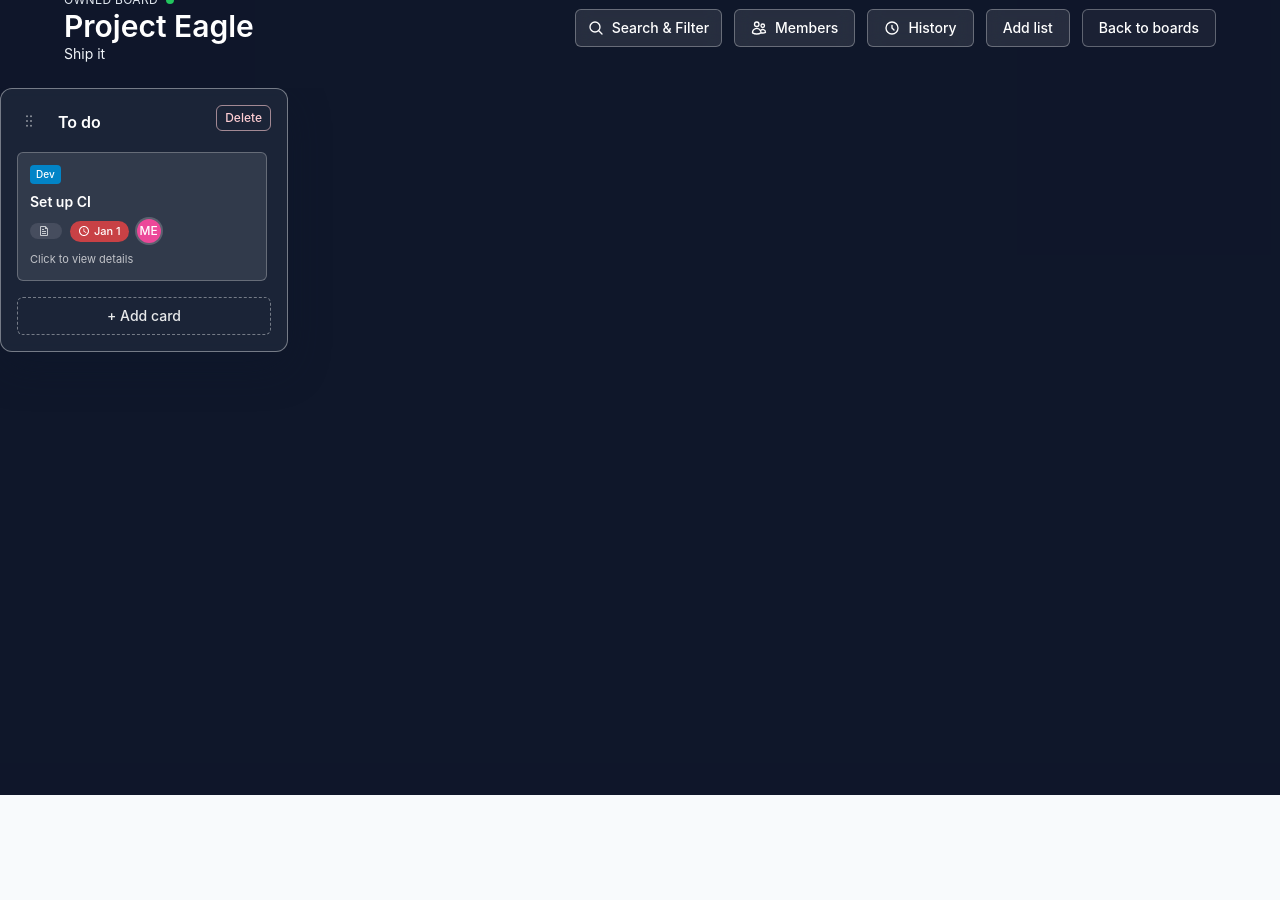
Test: BoardViewPage › opens the card detail view with metadata when a card is clicked
Click the button with aria-label "Open details for Set up CI". click: x=142, y=216
box: [17,152,267,281]
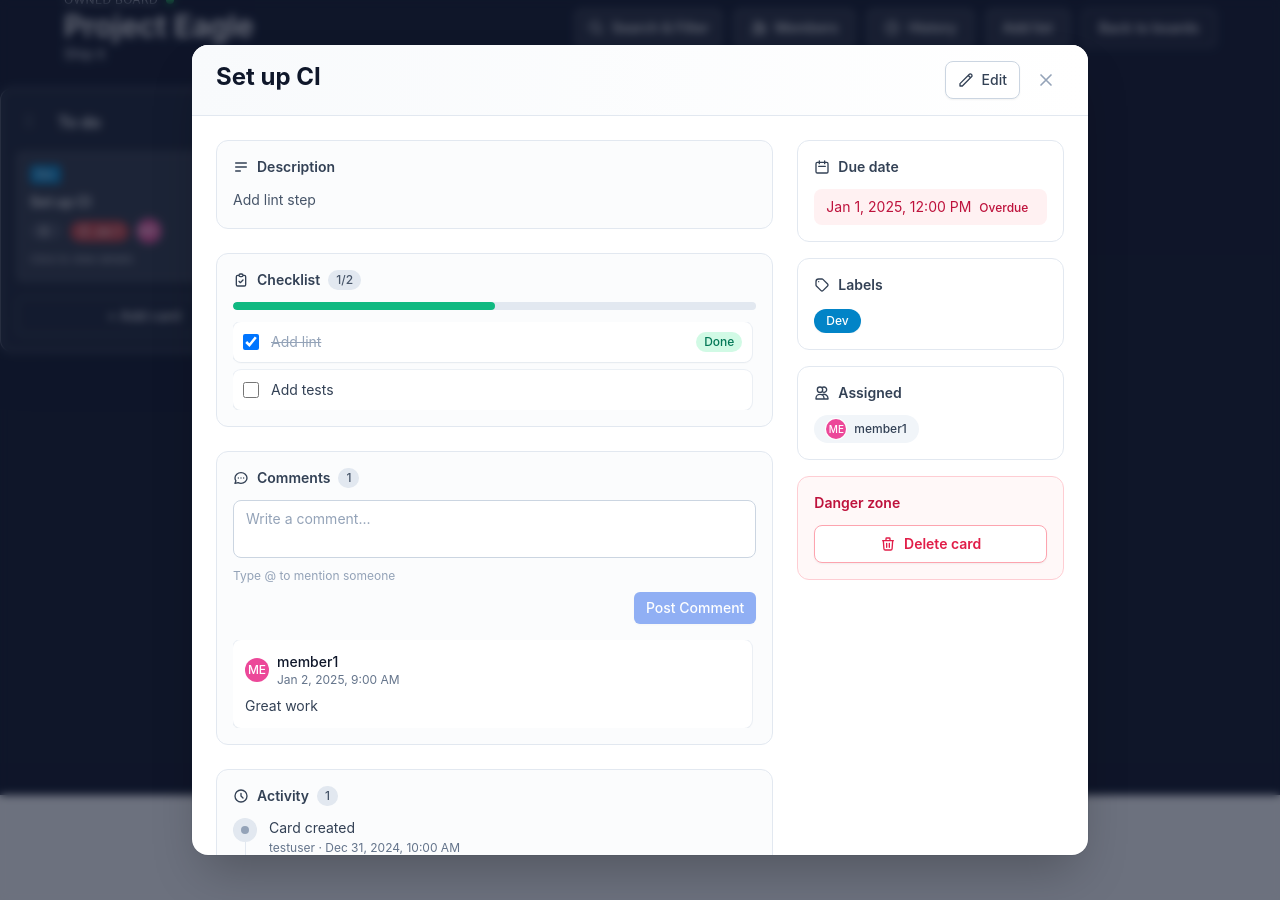
Check: the button "Edit" is shown, box [945,61,1020,99]
Check: the text "Add lint step" is shown, box [233,191,316,208]
Check: the text "Great work" is shown, box [245,697,318,714]
Click the button named "Close". click: x=1046, y=80
box: [1028,62,1064,98]
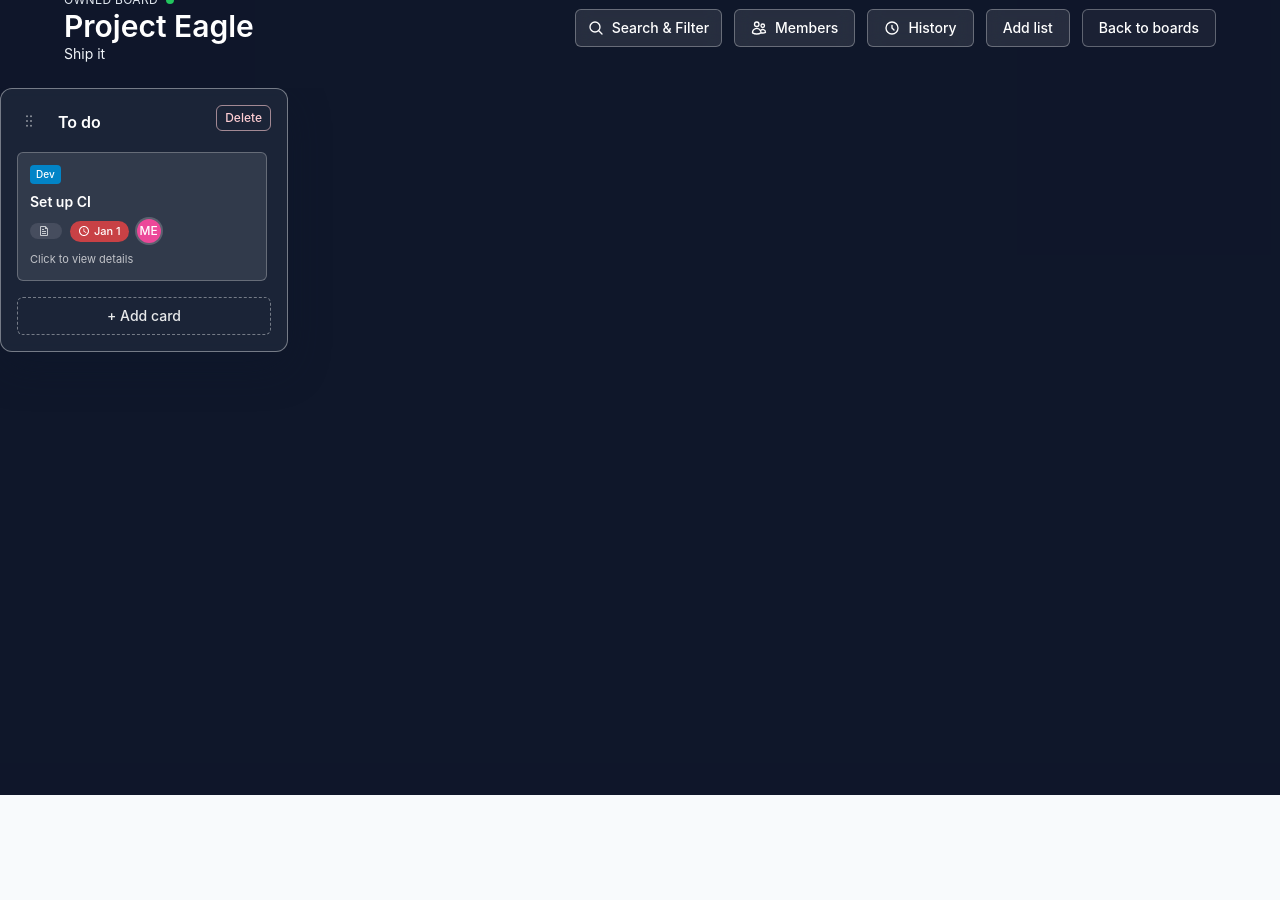
Check: the button "Edit" is gone
